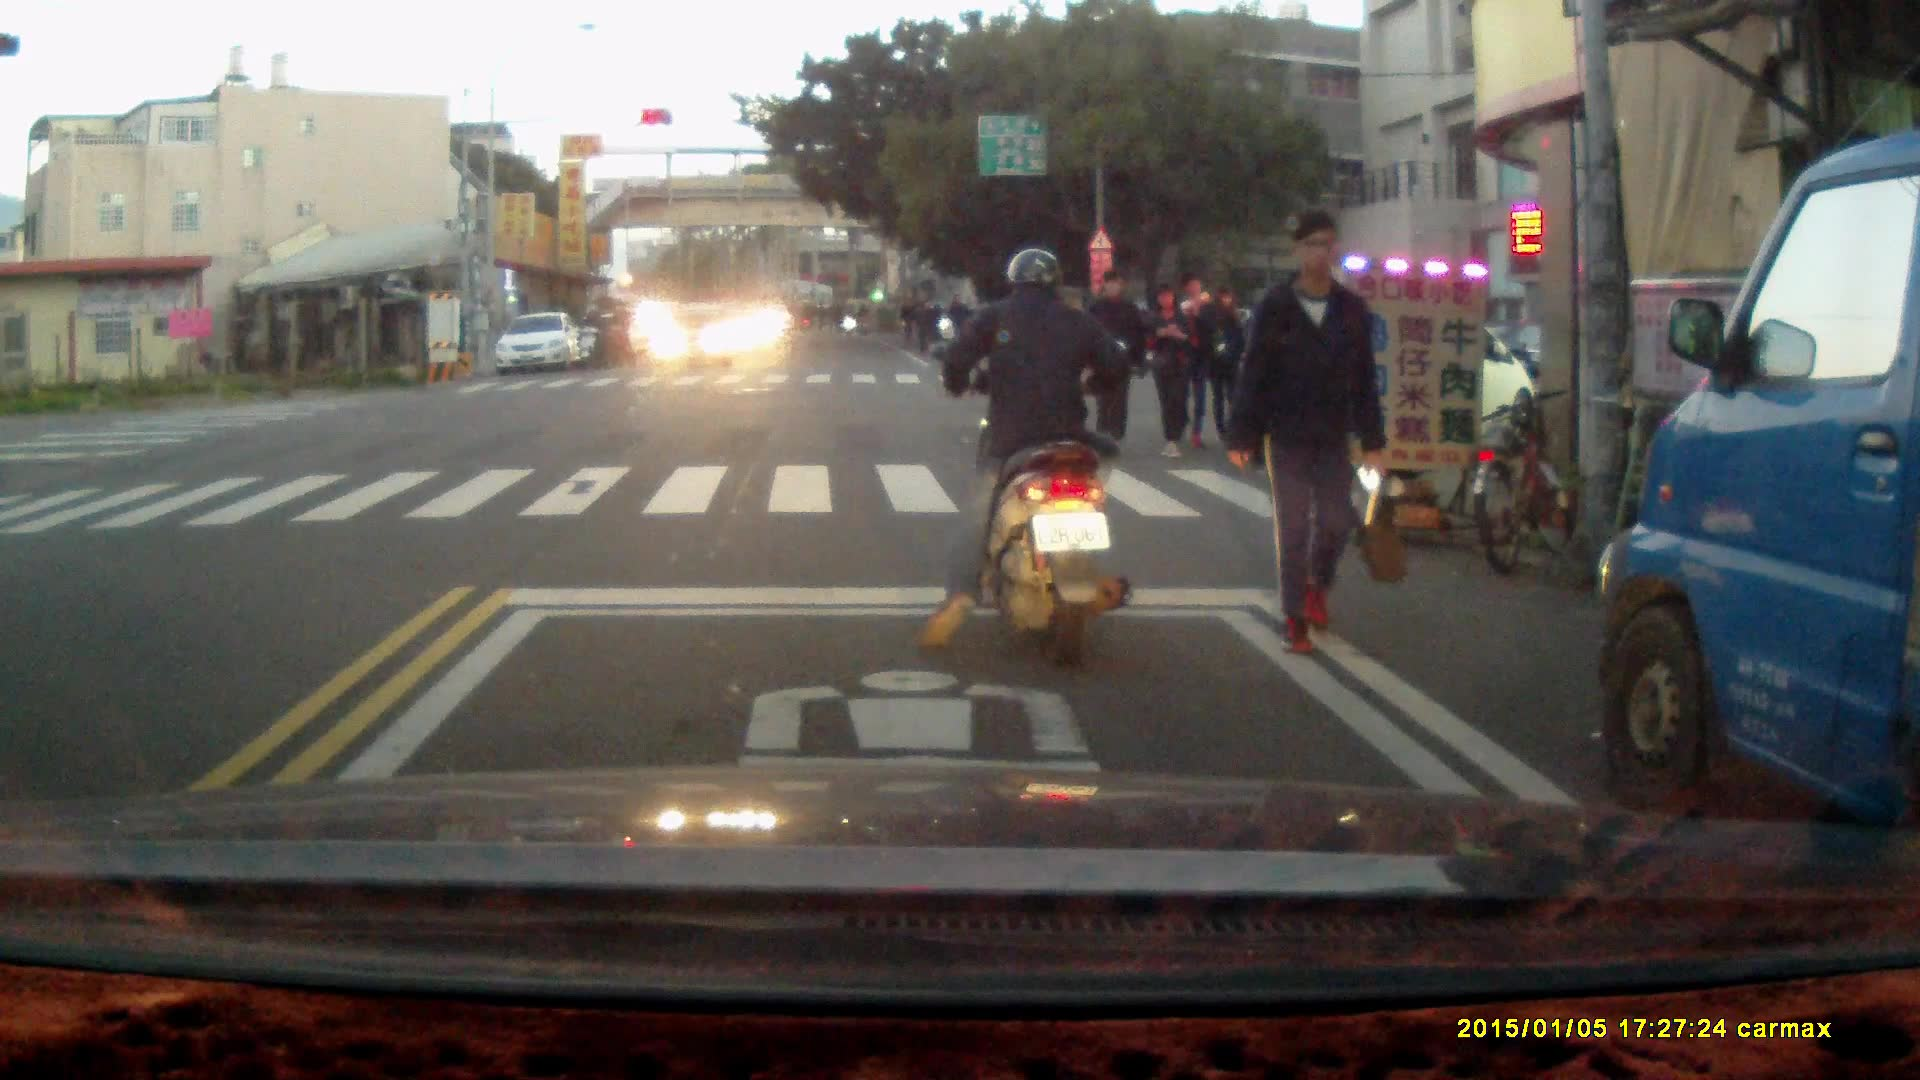pedestrian: (1223, 207, 1393, 658), (1069, 267, 1143, 460), (1142, 281, 1191, 459), (1204, 284, 1252, 450), (1170, 274, 1210, 451)
rider: (918, 244, 1128, 665), (600, 294, 635, 368), (576, 301, 611, 372)
vehicle: (1596, 120, 1920, 901), (647, 300, 744, 375), (493, 311, 584, 378)
